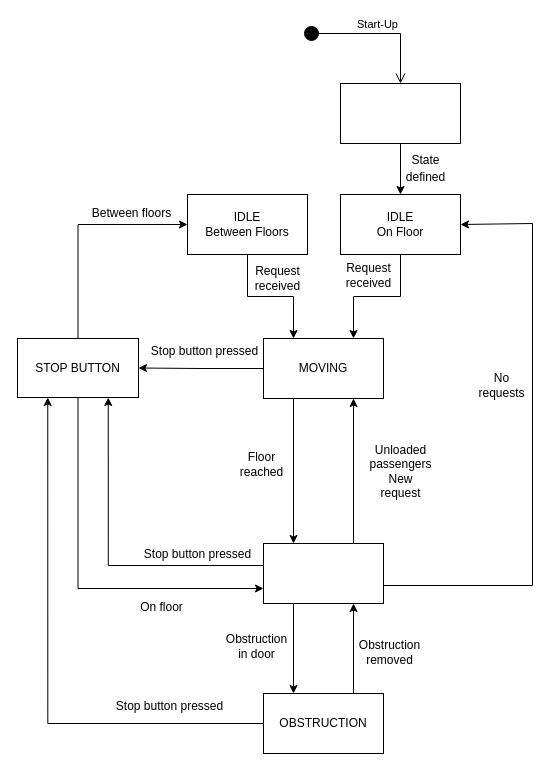
This 558x771 diagram has some shape labels left out. The shapes that lost their labels are listed below. From the top down, each one's box as (x1, y1, x2, y2) in pixels, then its label:
(340, 82, 460, 144): UNDEFINED
(262, 542, 384, 604): DOOR OPEN
